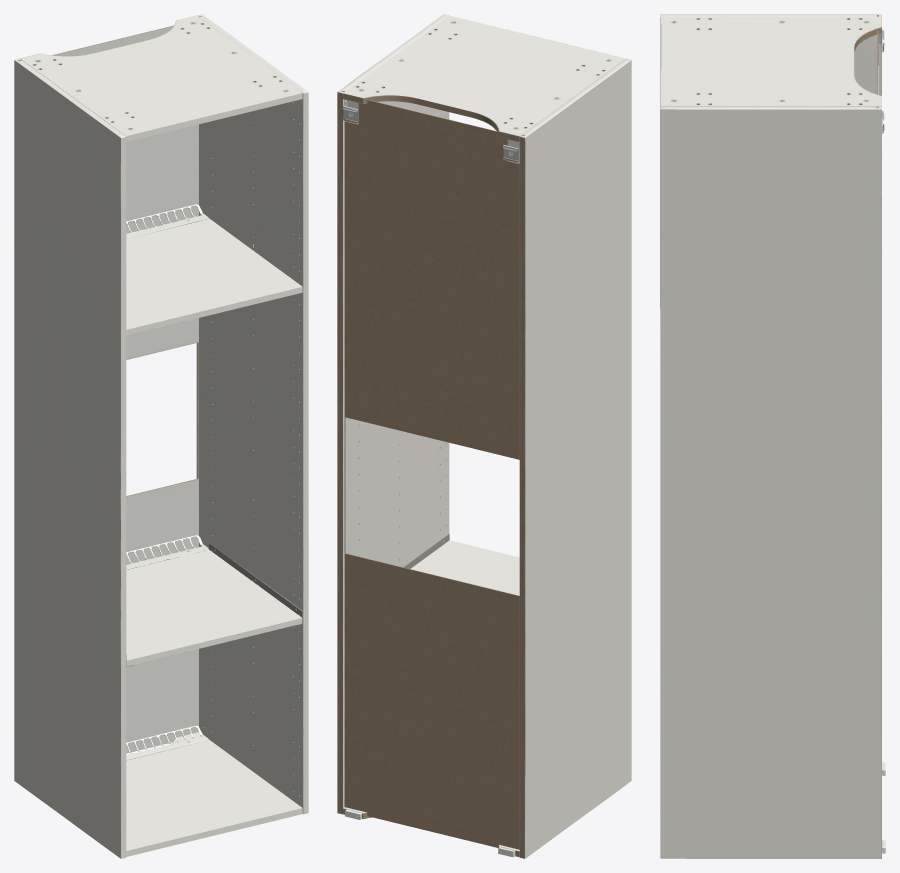
File: metod_50213570.glb
3 renders of one model, left to right at view 1: azimuth 30°, elevation 25°; view 2: azimuth 150°, elevation 25°; view 3: azimuth 270°, elevation 25°, orthographic. The views are drawn at different scales.
Visible parts, largest first — view 1: metod_50213570; view 2: metod_50213570; view 3: metod_50213570.
Part boxes in pixels (bbox=[...]): metod_50213570: bbox=[14, 14, 308, 858]; metod_50213570: bbox=[337, 14, 631, 858]; metod_50213570: bbox=[660, 14, 885, 858].
Bounding box in the file's own units: 0.6001 × 2.2 × 0.6001.
Materials: 1 (1 with a texture image).
